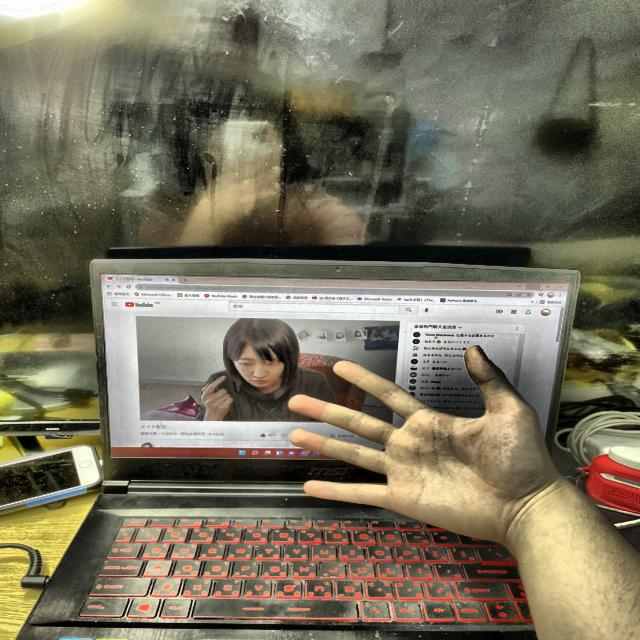not-gloved: (272, 325, 560, 550)
